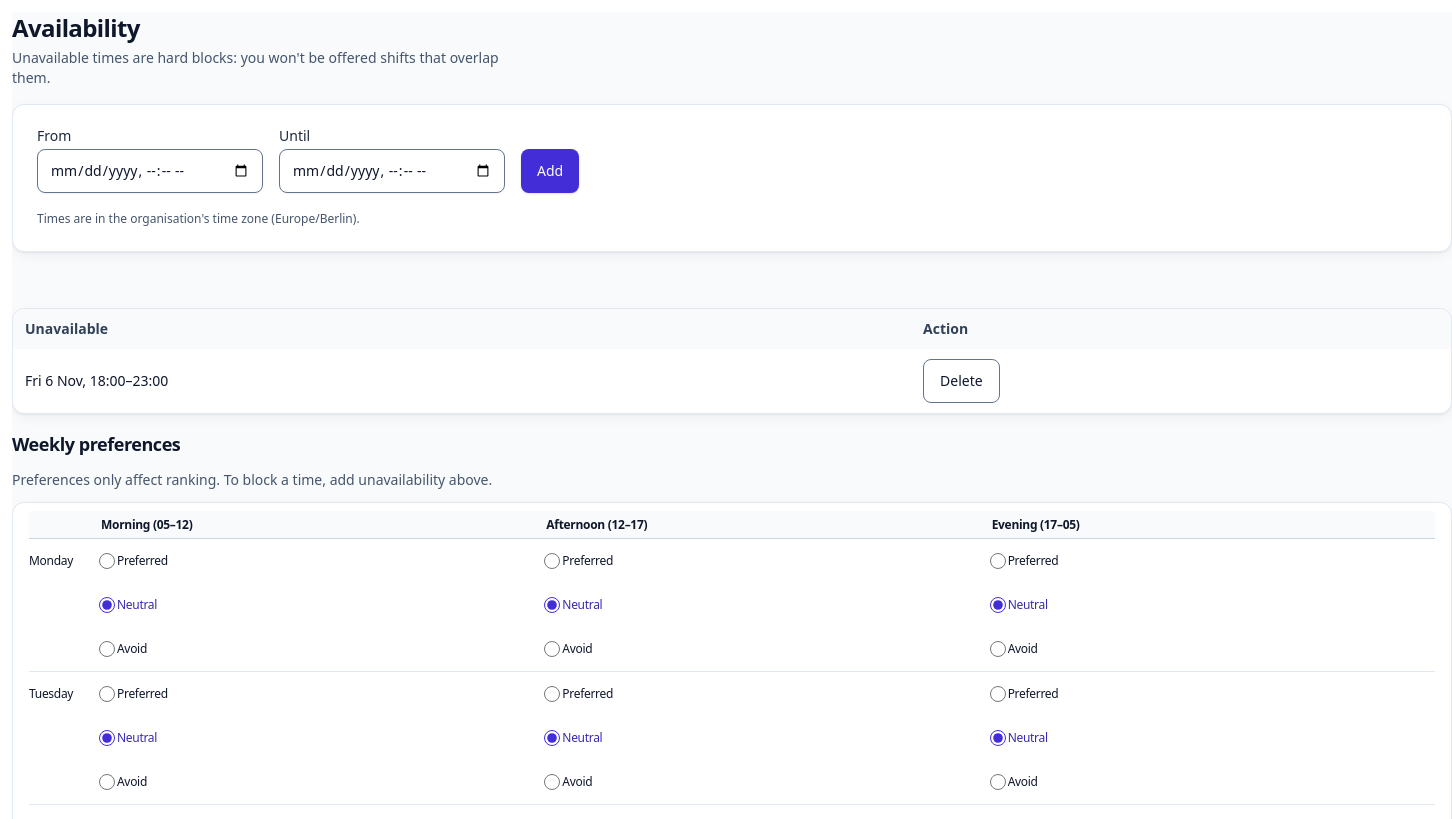
it: AvailabilityPage › announces added and removed windows
This screenshot has width=1452, height=819.
Step 1. Type "2026-11-10T09:00" into the field labelled "From" → (150, 171), box [37,149,263,193]
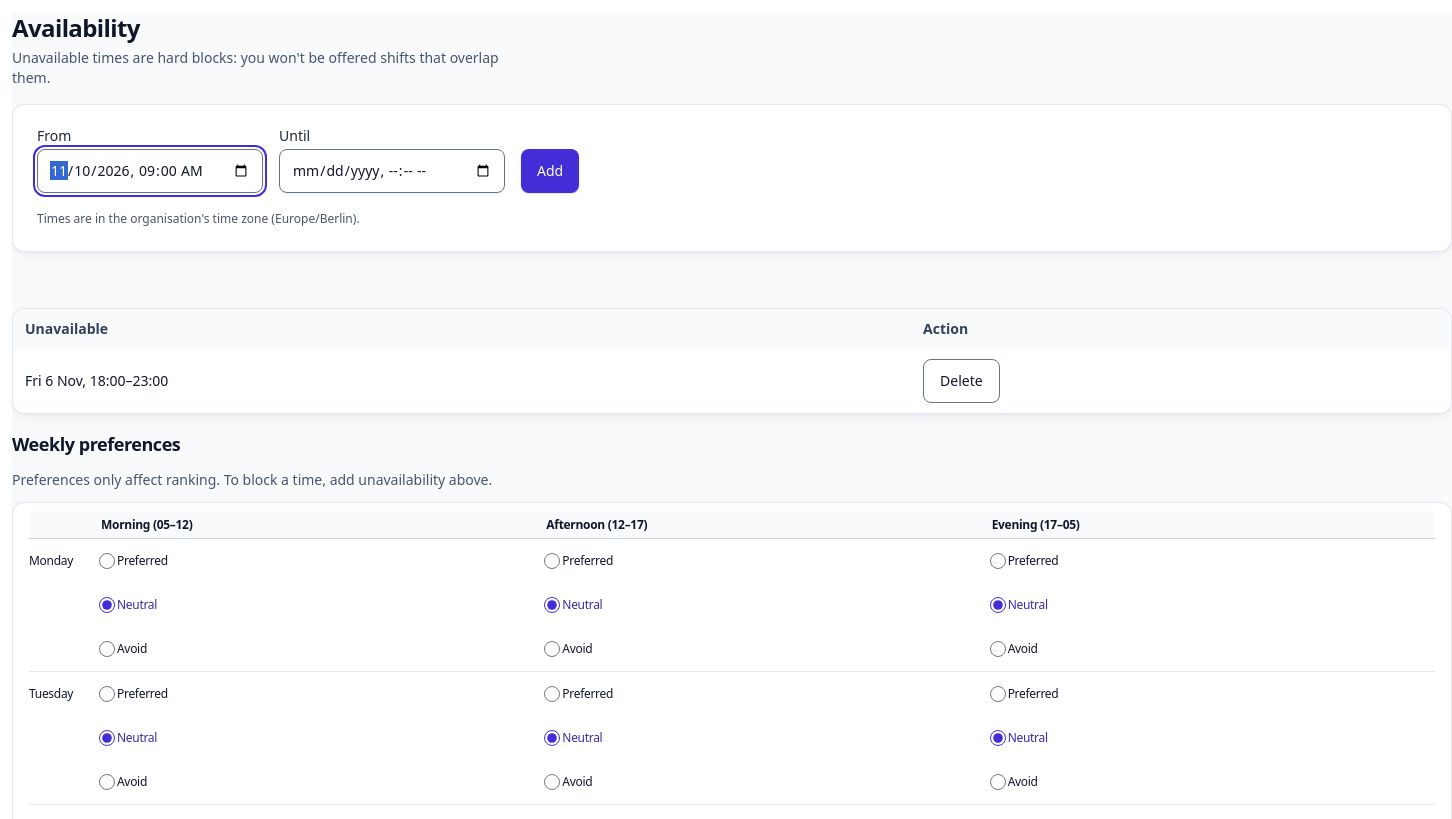
Step 2. Type "2026-11-10T18:00" into the field labelled "Until" → (392, 171), box [279,149,505,193]
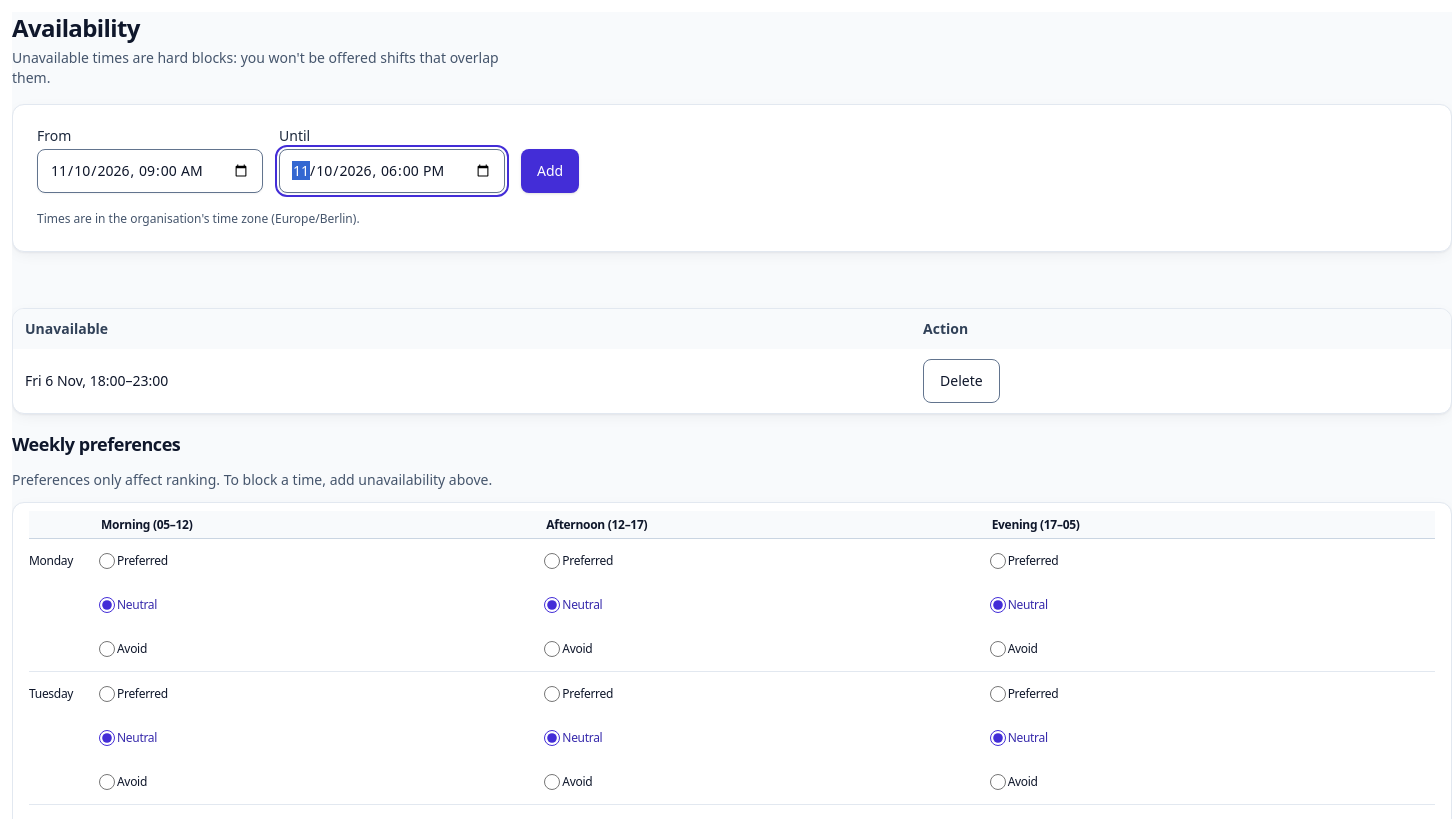
Step 3. Click the button "Add" → click(550, 171), box [521,149,579,193]
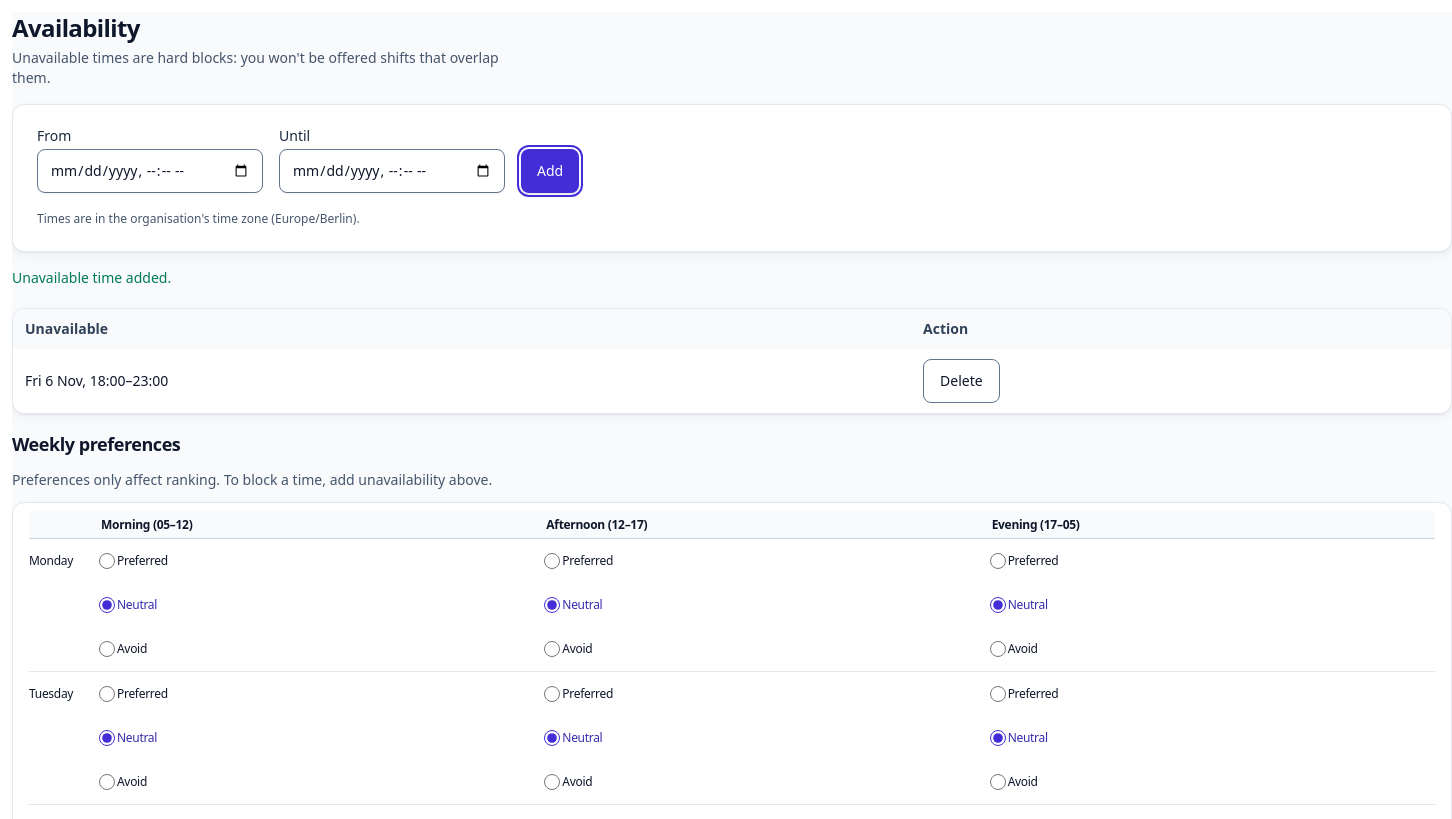
expect the text "Unavailable time added." is shown: met, box [12,268,171,287]
Step 4. Click the button "Delete" → click(961, 381), box [923,359,1000,403]
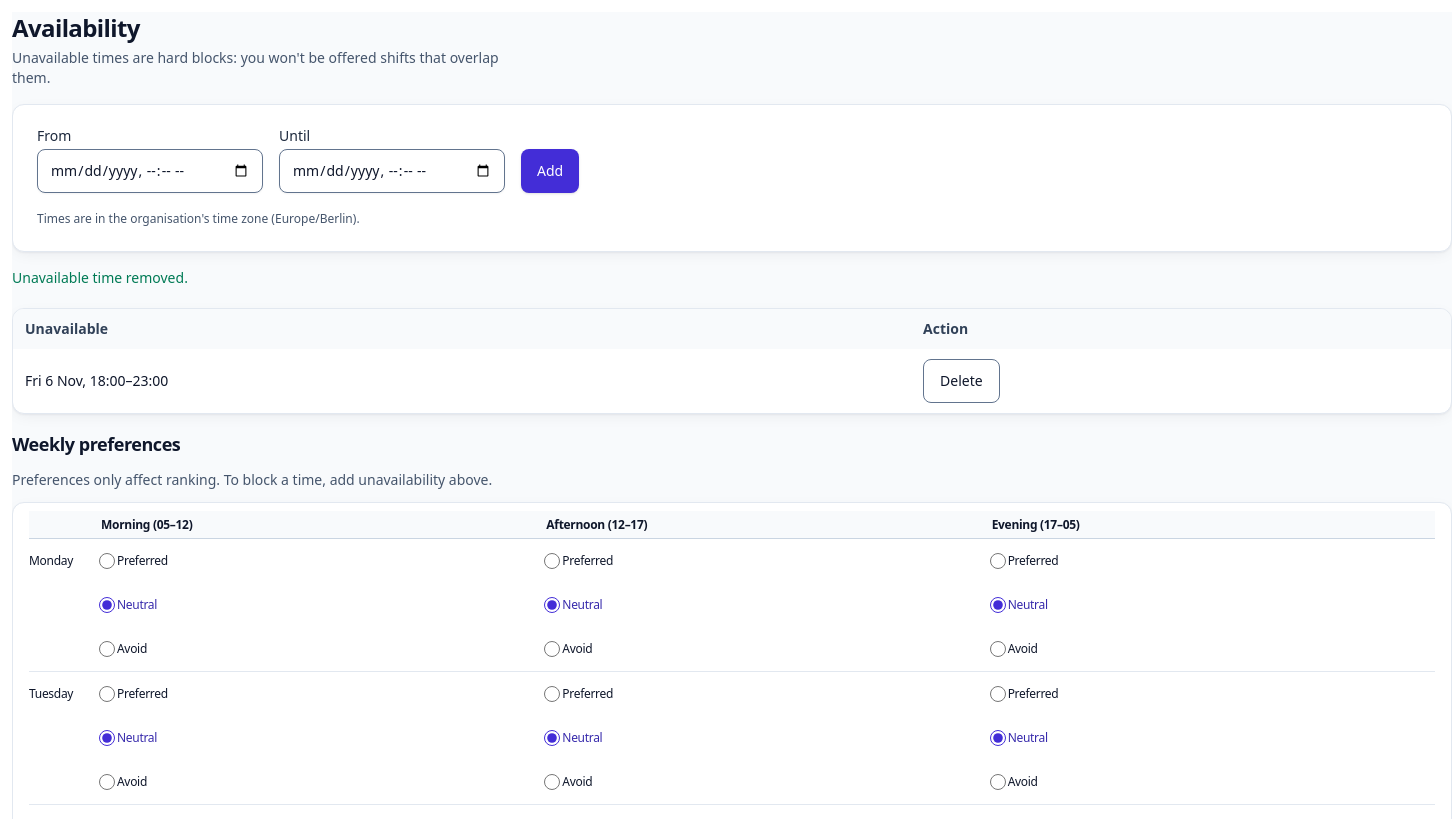
expect the text "Unavailable time removed." is shown: met, box [12,268,188,287]
